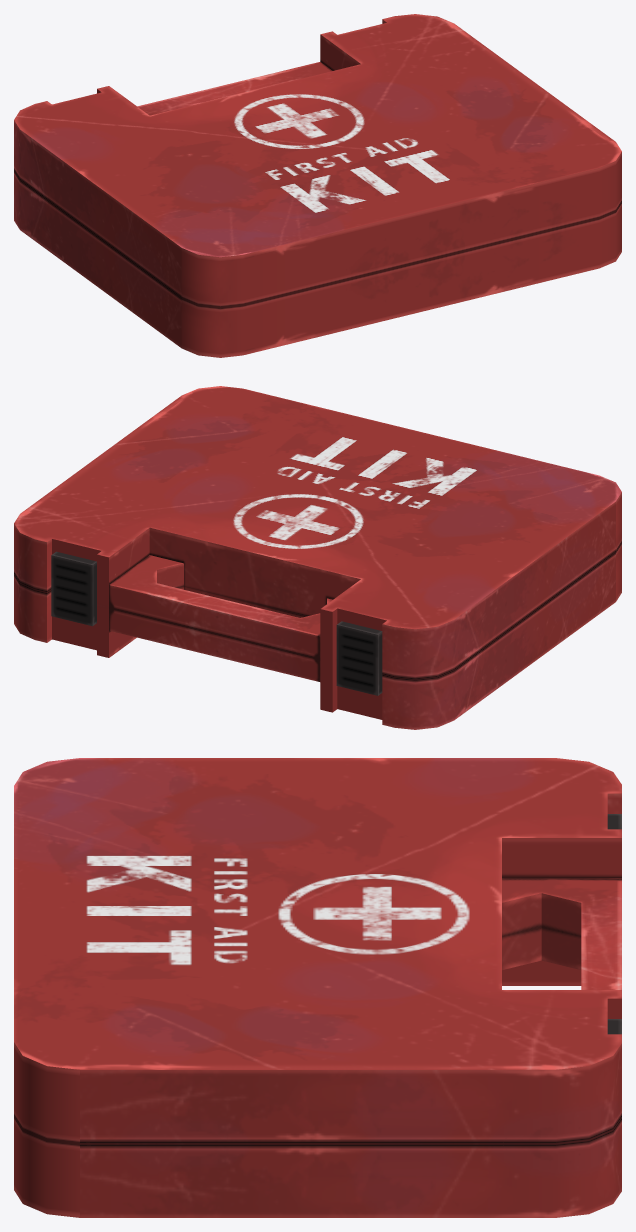
Rendered from ITEM_firstAidKit.fbx.
3 renders of one model, top to bottom at view 1: azimuth 30°, elevation 25°; view 2: azimuth 150°, elevation 25°; view 3: azimuth 270°, elevation 25°, orthographic. The views are drawn at different scales.
Parts seen in each view (by area): view 1: ITEM_firstAidKit_lid, ITEM_firstAidKit; view 2: ITEM_firstAidKit_lid, ITEM_firstAidKit; view 3: ITEM_firstAidKit_lid, ITEM_firstAidKit.
Boxes of the visible parts, x1,y1,x2,y2 form: ITEM_firstAidKit_lid: [14, 14, 621, 307]; ITEM_firstAidKit: [14, 171, 621, 357]; ITEM_firstAidKit_lid: [14, 386, 621, 695]; ITEM_firstAidKit: [14, 543, 621, 729]; ITEM_firstAidKit_lid: [14, 758, 621, 1143]; ITEM_firstAidKit: [14, 927, 621, 1217].
Size of the model in its own units: 0.3351 by 0.0742 by 0.2761.
